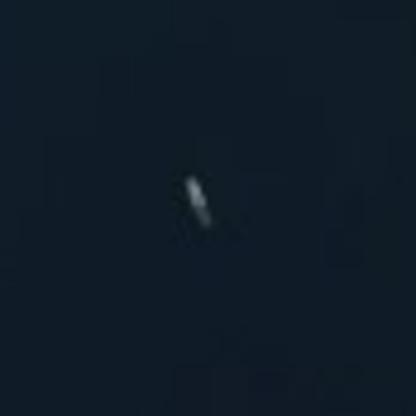ship: (175, 171, 219, 233)
